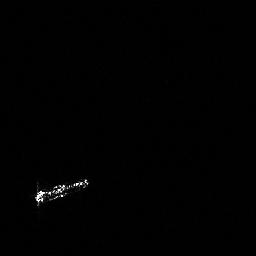ship: (30, 174, 91, 210)
